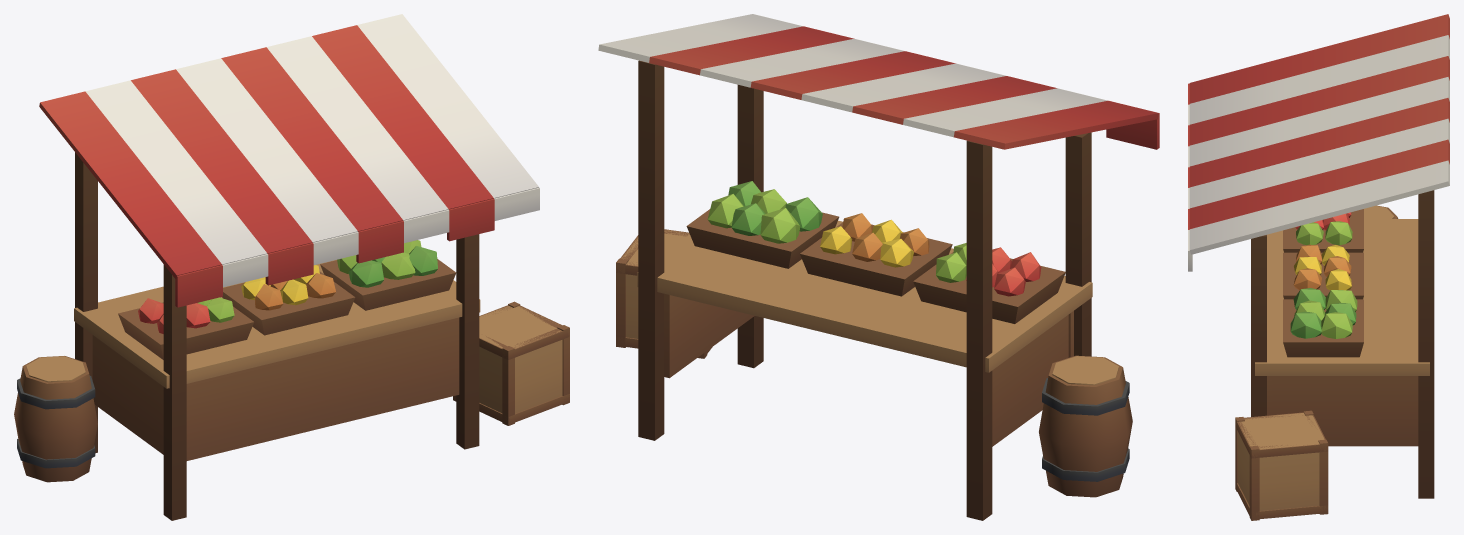
Rendered from market_stall_fruit.glb.
The picture shows the model from 3 angles, left to right: view 1: azimuth 30°, elevation 25°; view 2: azimuth 150°, elevation 25°; view 3: azimuth 270°, elevation 25°; orthographic projection. The views are drawn at different scales.
Parts seen in each view (by area): view 1: market_stall_fruit; view 2: market_stall_fruit; view 3: market_stall_fruit.
Part boxes in pixels (box(x1,y1,x2,y2)): market_stall_fruit: box(14, 14, 569, 520); market_stall_fruit: box(598, 14, 1159, 520); market_stall_fruit: box(1188, 14, 1449, 520).
Bounding box in the file's own units: 14.1 × 9.57 × 6.88.
Materials: 1 (1 with a texture image).
